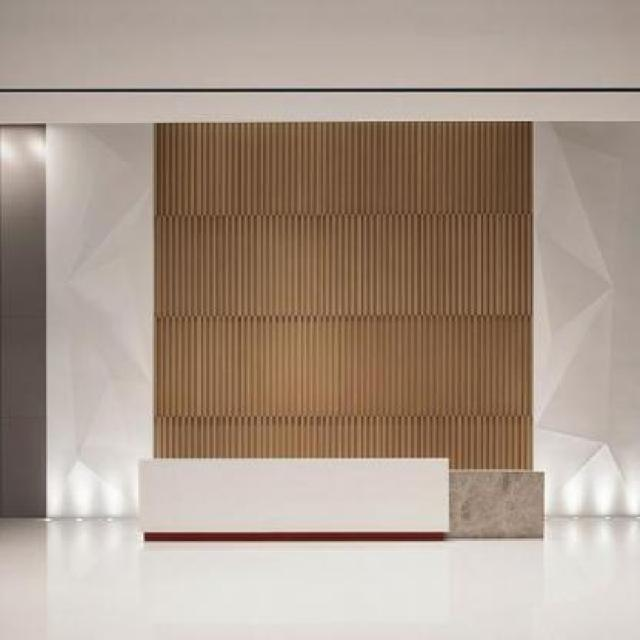frontdesk: (129, 442, 555, 550)
